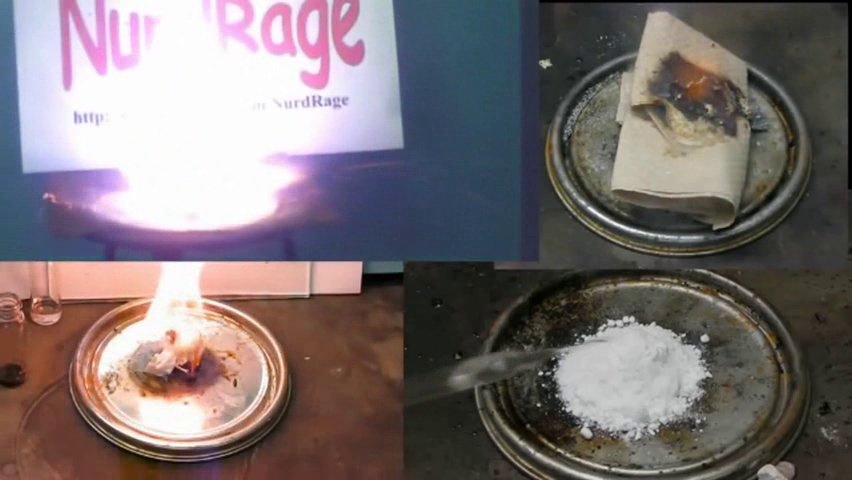fire: (126, 243, 216, 378)
